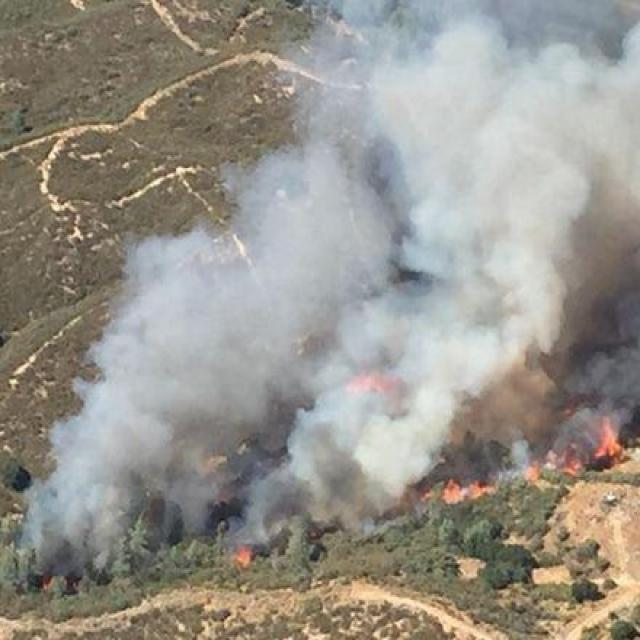Smoke: (0, 190, 314, 532), (326, 45, 640, 292)
